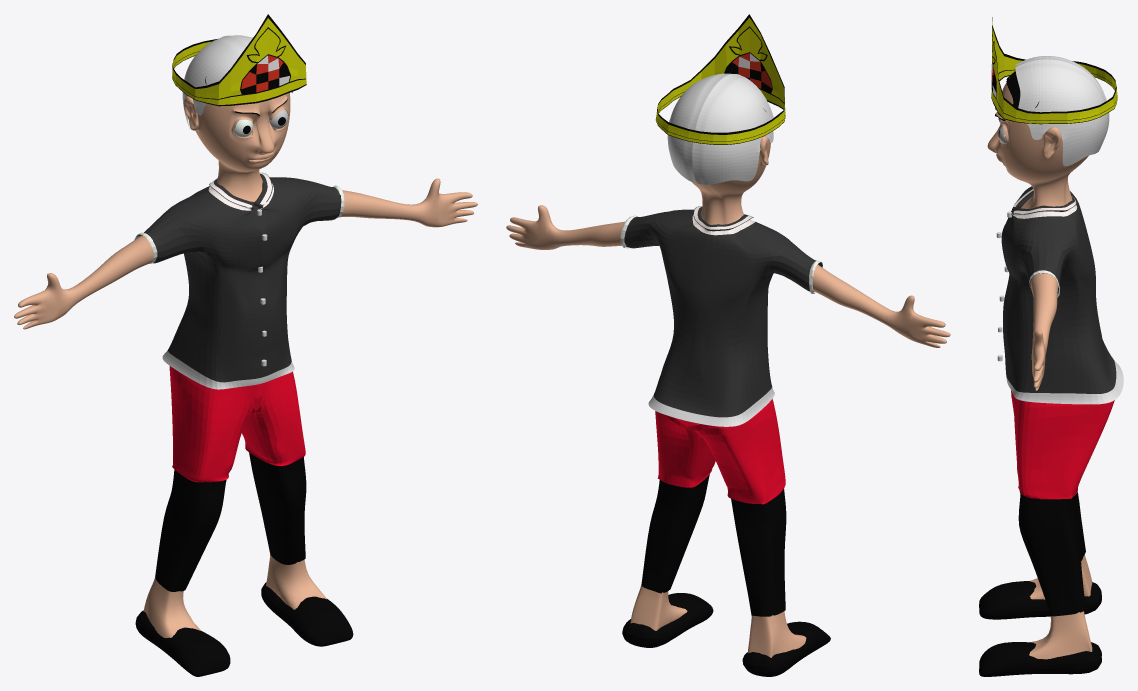
The model's file is final blender 3d.fbx.
The picture shows the model from 3 angles, left to right: view 1: azimuth 30°, elevation 25°; view 2: azimuth 150°, elevation 25°; view 3: azimuth 270°, elevation 25°; orthographic projection. The views are drawn at different scales.
Parts seen in each view (by area): view 1: Cube.003, Cube, Cube.005, CPJ, Sphere.002, Cube.004, Cube.001; view 2: Cube.003, Cube, CPJ, Cube.005, Cube.001, Sphere.002, Cube.004; view 3: Cube.003, Cube, Cube.005, CPJ, Cube.001, Cube.004, Sphere.002, Cube.002.
Boxes of the visible parts, x1,y1,x2,y2 form: Cube.003: (134,172,344,389); Cube: (14,93,477,637); Cube.005: (169,366,305,482); CPJ: (155,452,306,591); Sphere.002: (172,14,306,106); Cube.004: (135,582,353,676); Cube.001: (182,35,292,128); Cube.003: (620,205,822,426); Cube: (506,120,950,657); CPJ: (641,474,786,616); Cube.005: (655,399,785,504); Cube.001: (667,73,773,184); Sphere.002: (655,14,785,144); Cube.004: (622,593,830,676); Cube.003: (1001,186,1123,404); Cube: (987,83,1092,659); Cube.005: (1011,390,1114,499); CPJ: (1018,484,1085,616); Cube.001: (1015,56,1109,166); Cube.004: (979,581,1101,676); Sphere.002: (991,17,1117,124); Cube.002: (1006,71,1039,107).
Bounding box in the file's own units: 1592 × 2107 × 440.
